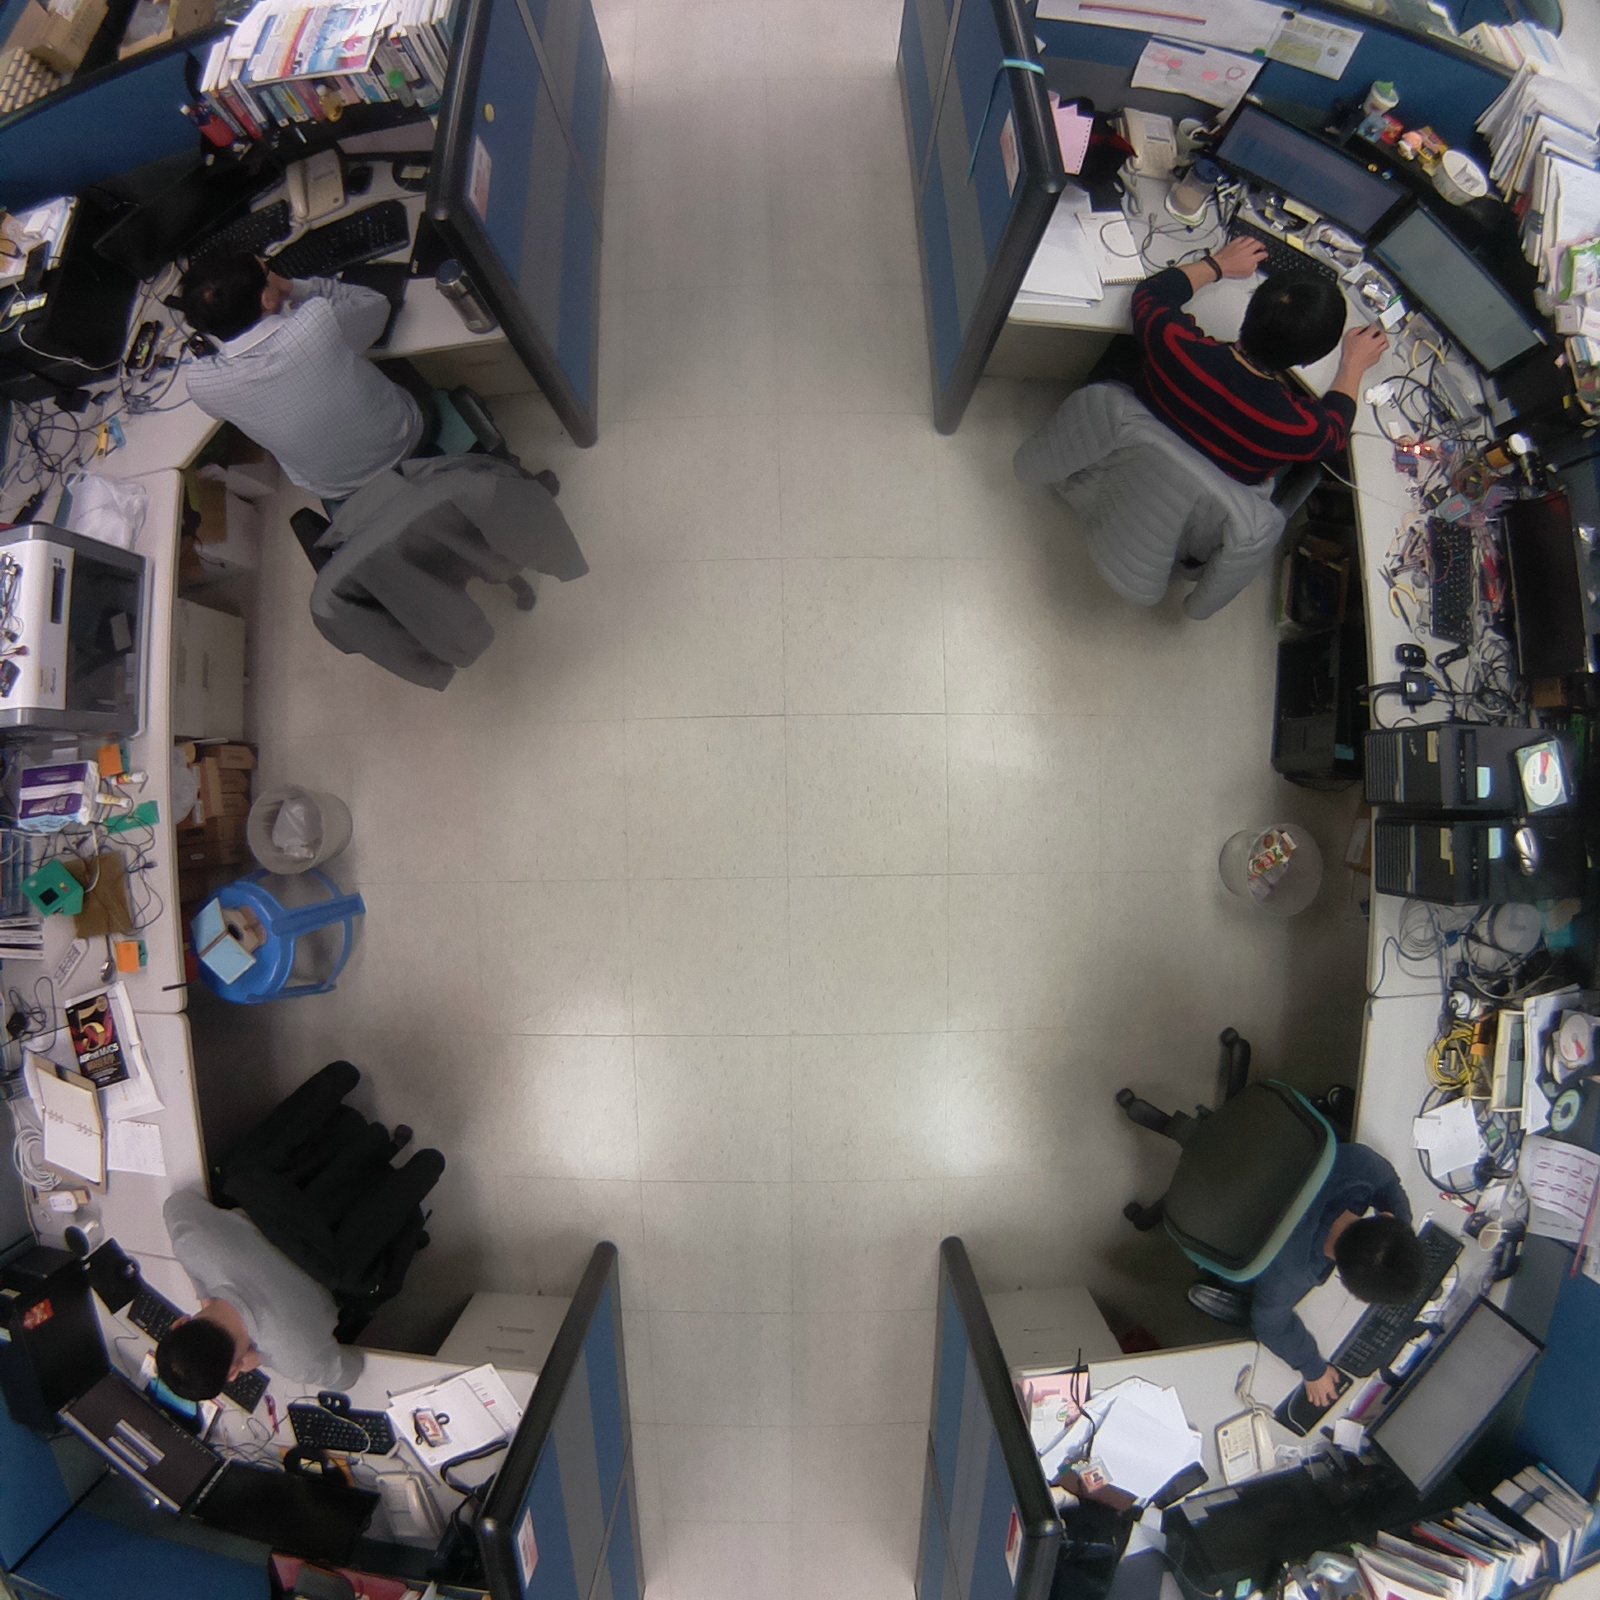head: (1238, 265, 1357, 372), (1332, 1197, 1432, 1312), (146, 1312, 255, 1412), (172, 246, 287, 340)
sitting: (163, 240, 609, 709), (986, 229, 1394, 637), (1091, 1011, 1432, 1414), (142, 1034, 483, 1422)
